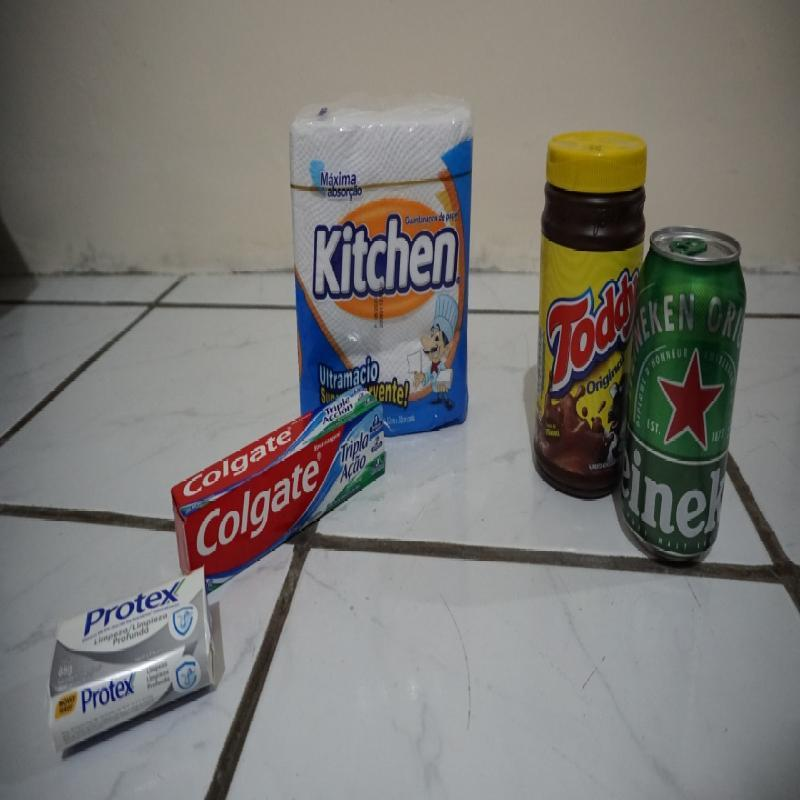Beer can: (631, 223, 755, 566)
Chocolate Powder: (529, 135, 626, 493)
Napkin: (293, 114, 478, 375)
Soap: (48, 566, 213, 737)
Toothpaste: (170, 392, 390, 561)
